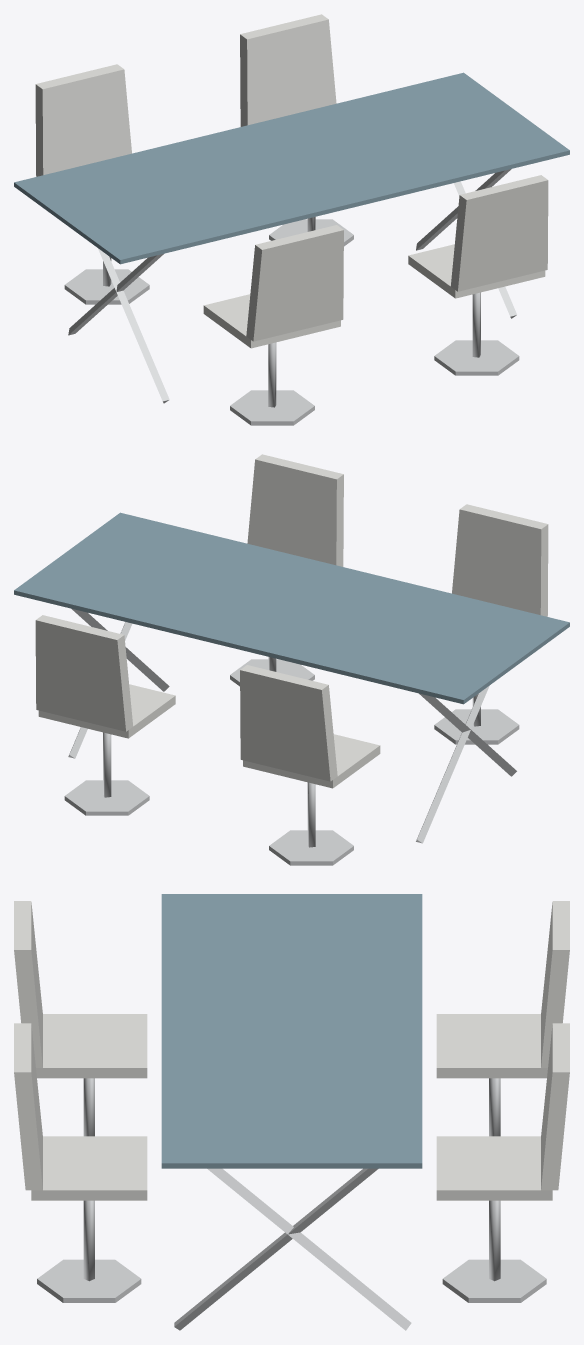
Rendered from dining_glass.glb.
3 views of the same model, one above another, from view 1: azimuth 30°, elevation 25°; view 2: azimuth 150°, elevation 25°; view 3: azimuth 270°, elevation 25° (orthographic). The views are drawn at different scales.
Parts seen in each view (by area): view 1: dining_glass; view 2: dining_glass; view 3: dining_glass.
Boxes of the visible parts, x1=… form: dining_glass: x1=14, y1=14, x2=569, y2=425; dining_glass: x1=14, y1=454, x2=569, y2=865; dining_glass: x1=14, y1=894, x2=569, y2=1330.
Bounding box in the file's own units: 2.2 × 0.9149 × 1.92.
Materials: 1 (1 with a texture image).
